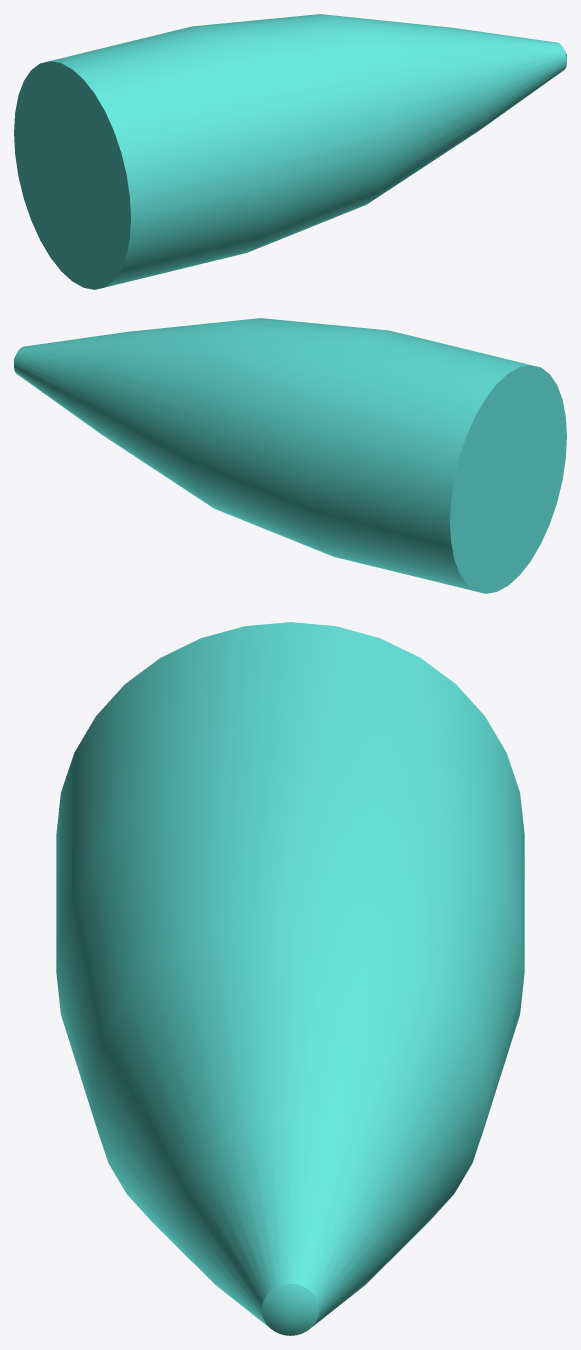
Rendered from bala_diamante.obj.
3 views of the same model, one above another, from view 1: azimuth 30°, elevation 25°; view 2: azimuth 150°, elevation 25°; view 3: azimuth 270°, elevation 25° (orthographic). The views are drawn at different scales.
Bounding box in the file's own units: 0.0556 × 0.0228 × 0.0228.
